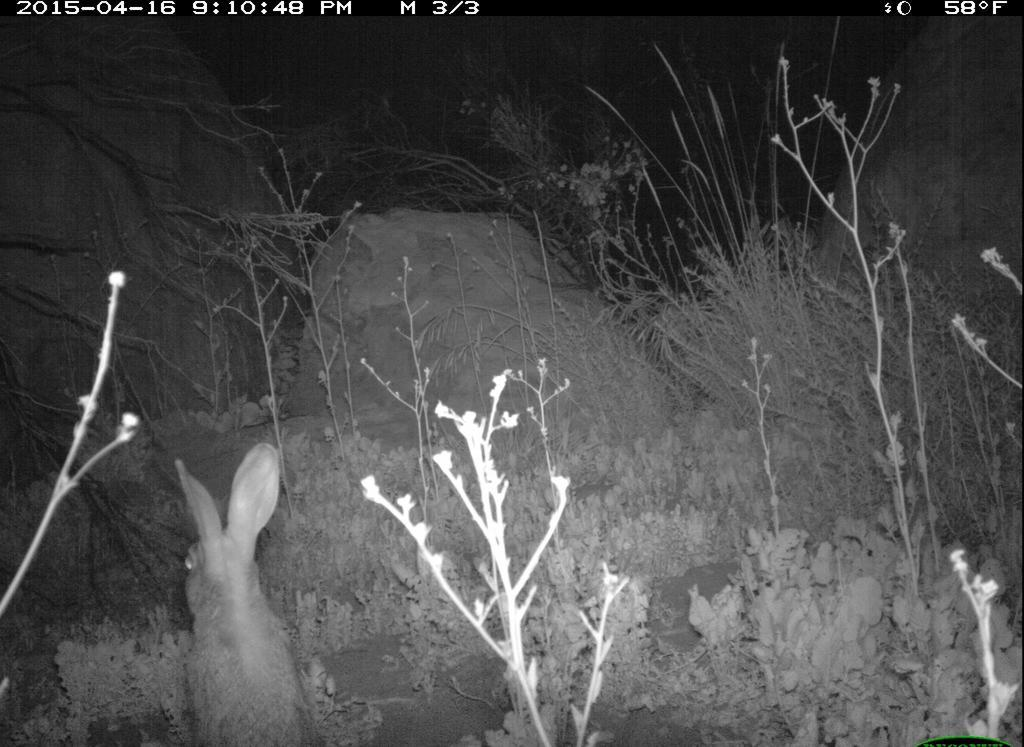rabbit: (158, 445, 324, 745)
